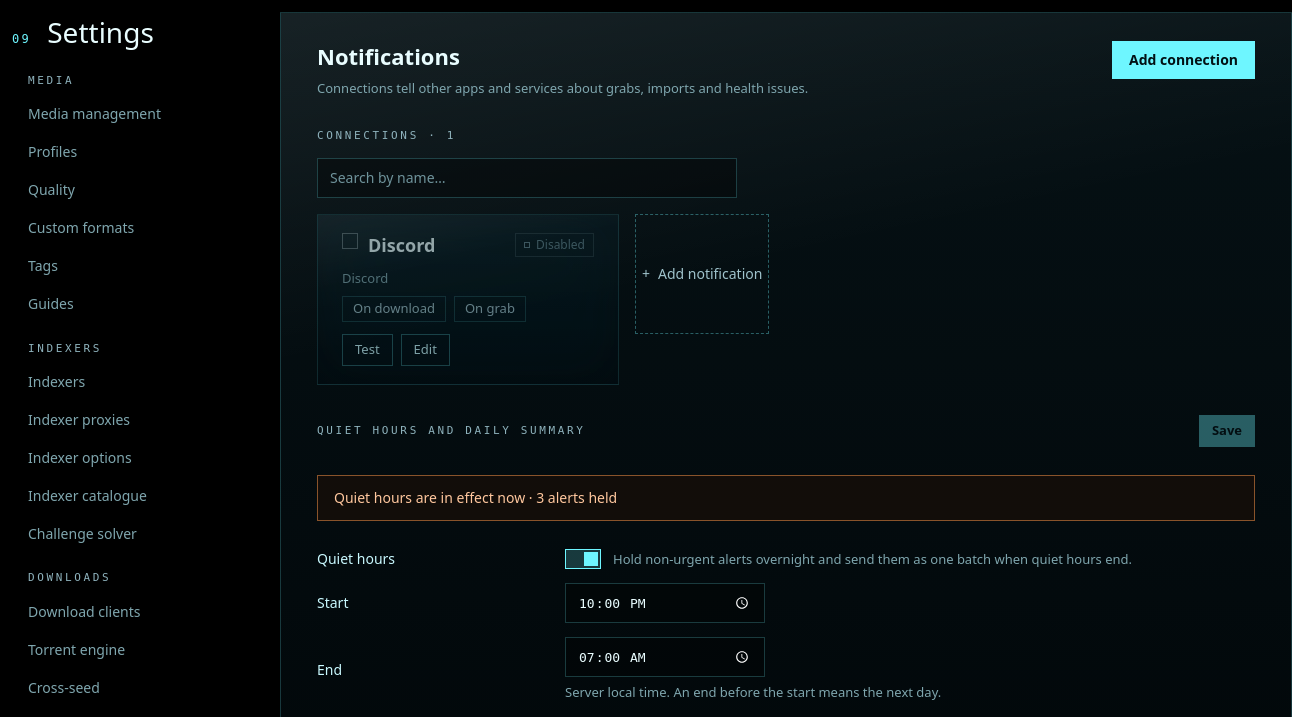
Test: Settings -> Notifications › draws a card per connection with its event tags and Test / Edit
The width and height of the screenshot is (1292, 717).
Check: the text "On download" is shown, box [342,296,446,322]
Click the button "Test": (367, 350) [342,334,393,366]
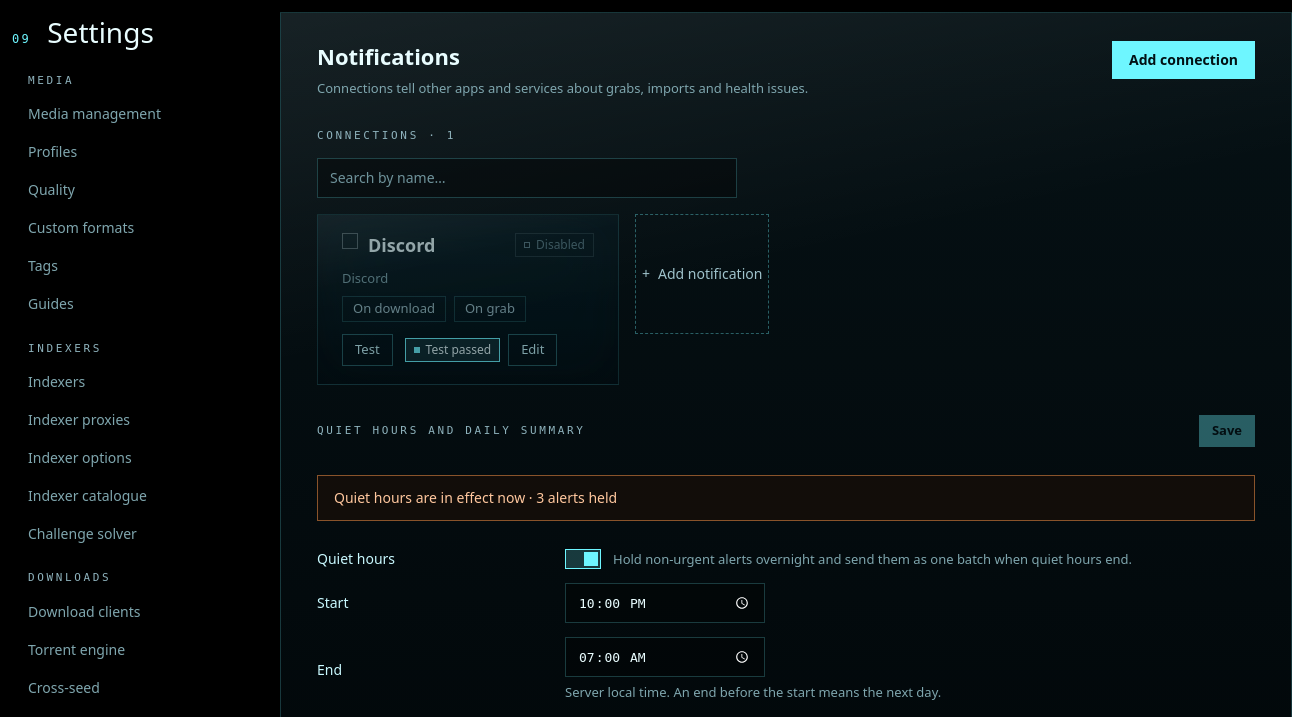
Check: the text "Test passed" is shown, box [405,338,500,362]
